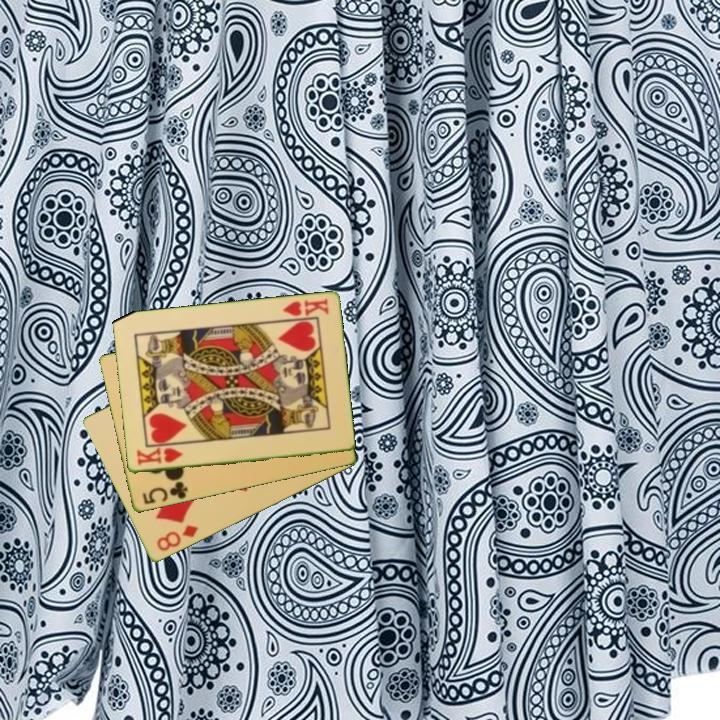5c: (139, 478, 191, 508)
8d: (153, 521, 201, 554)
Kh: (133, 444, 185, 468), (279, 295, 331, 319)
